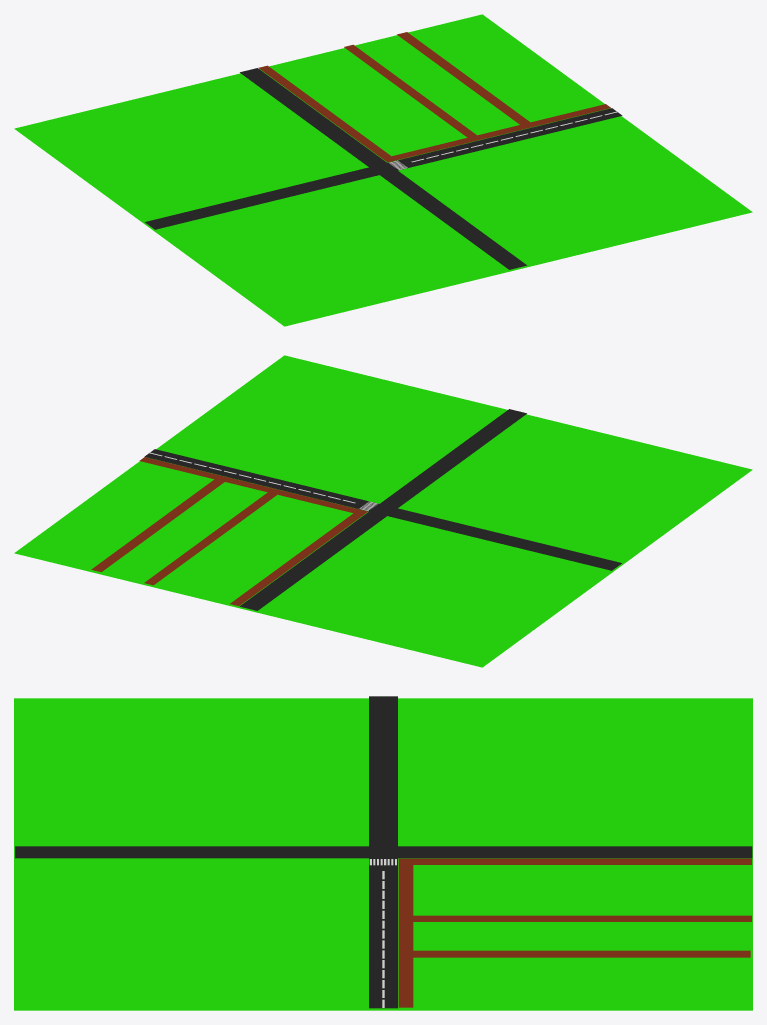
3 renders of one model, top to bottom at view 1: azimuth 30°, elevation 25°; view 2: azimuth 150°, elevation 25°; view 3: azimuth 270°, elevation 25°, orthographic. The views are drawn at different scales.
Parts seen in each view (by area): view 1: 地面, 道路, 平面; view 2: 地面, 道路, 平面; view 3: 地面, 道路, 平面.
Boxes of the visible parts, x1,y1,x2,y2 form: 地面: [14, 14, 752, 326]; 道路: [145, 68, 622, 269]; 平面: [258, 32, 610, 162]; 地面: [14, 355, 752, 667]; 道路: [144, 409, 621, 610]; 平面: [91, 457, 367, 605]; 地面: [14, 698, 752, 1010]; 道路: [15, 696, 752, 1008]; 平面: [398, 858, 751, 1007].
Bounding box in the file's own units: 100 × 0.3209 × 100.
